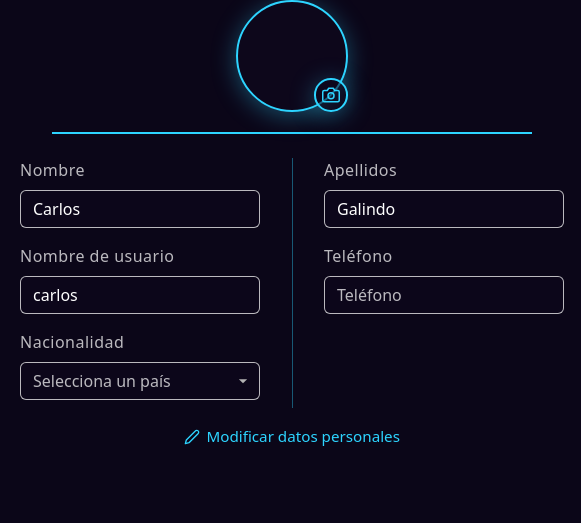
Scenario: PerfilPanel › muestra la alerta roja y bloquea el guardado cuando el username ya existe
Expected: the field showing "Carlos" is shown, 20,190 -> 260,228
Click the button "Modificar datos personales" at (292, 436), box 166,416 -> 418,457
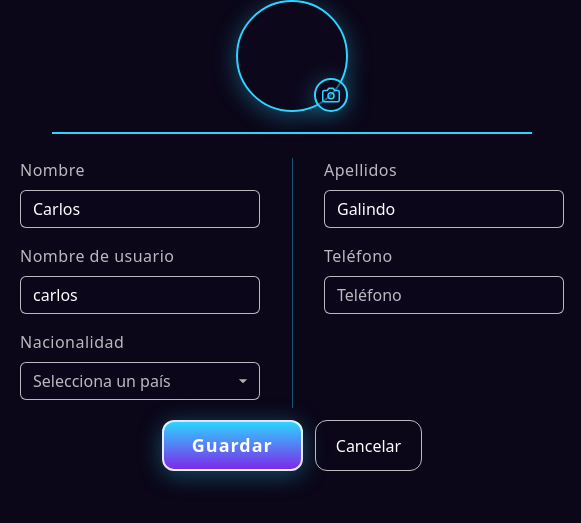
Replace the text in the field labelled "Nombre de usuario" with "yaexiste" at (140, 295), box 20,276 -> 260,314
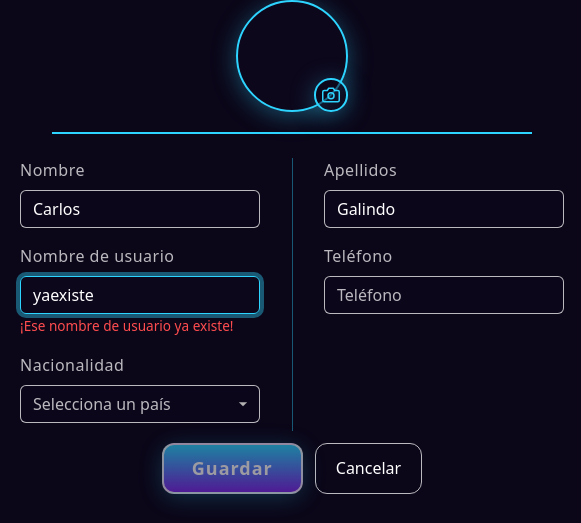
Expected: the message shows "ya existe", 20,316 -> 234,335
Expected: the button "Guardar" is disabled, 162,443 -> 303,494
